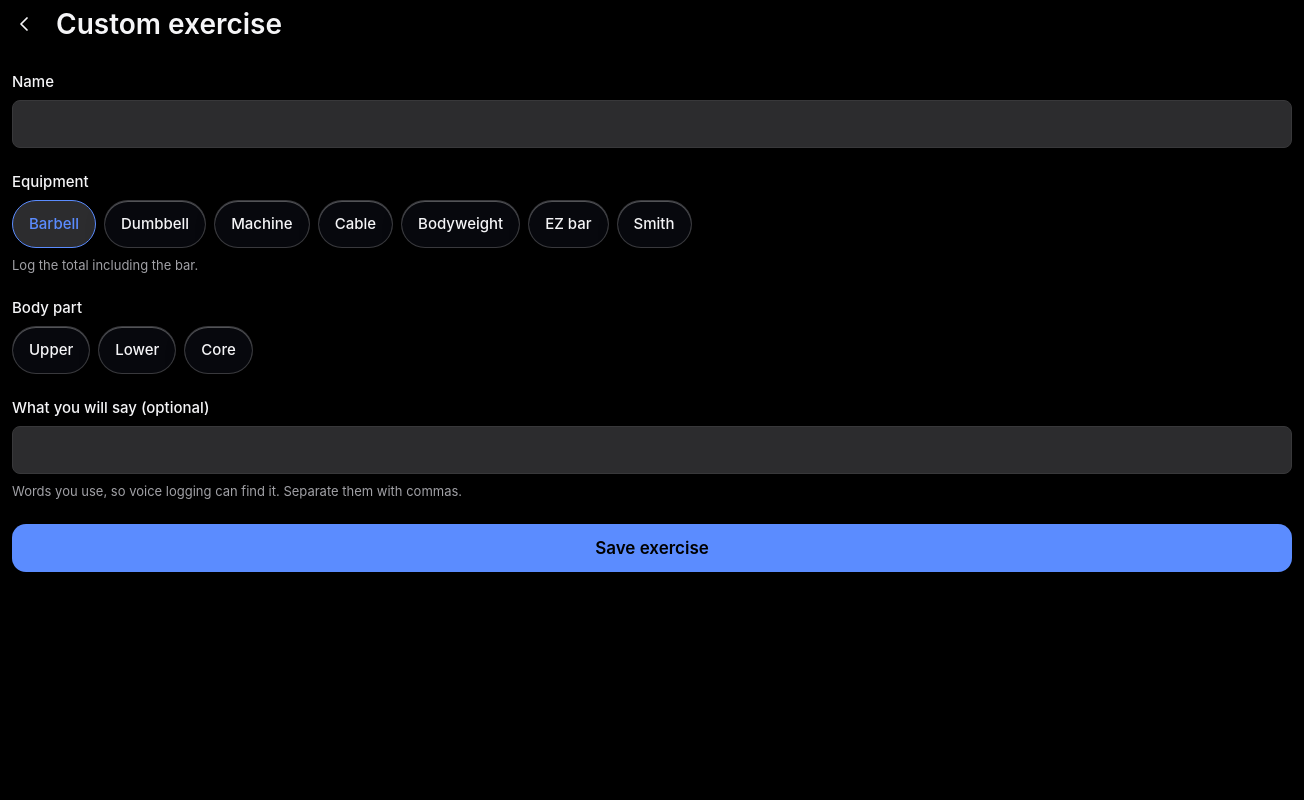
it: CustomExercisePage › explains what to log for Machine
Click the button "Machine". click: (262,224)
box: [214, 200, 310, 248]
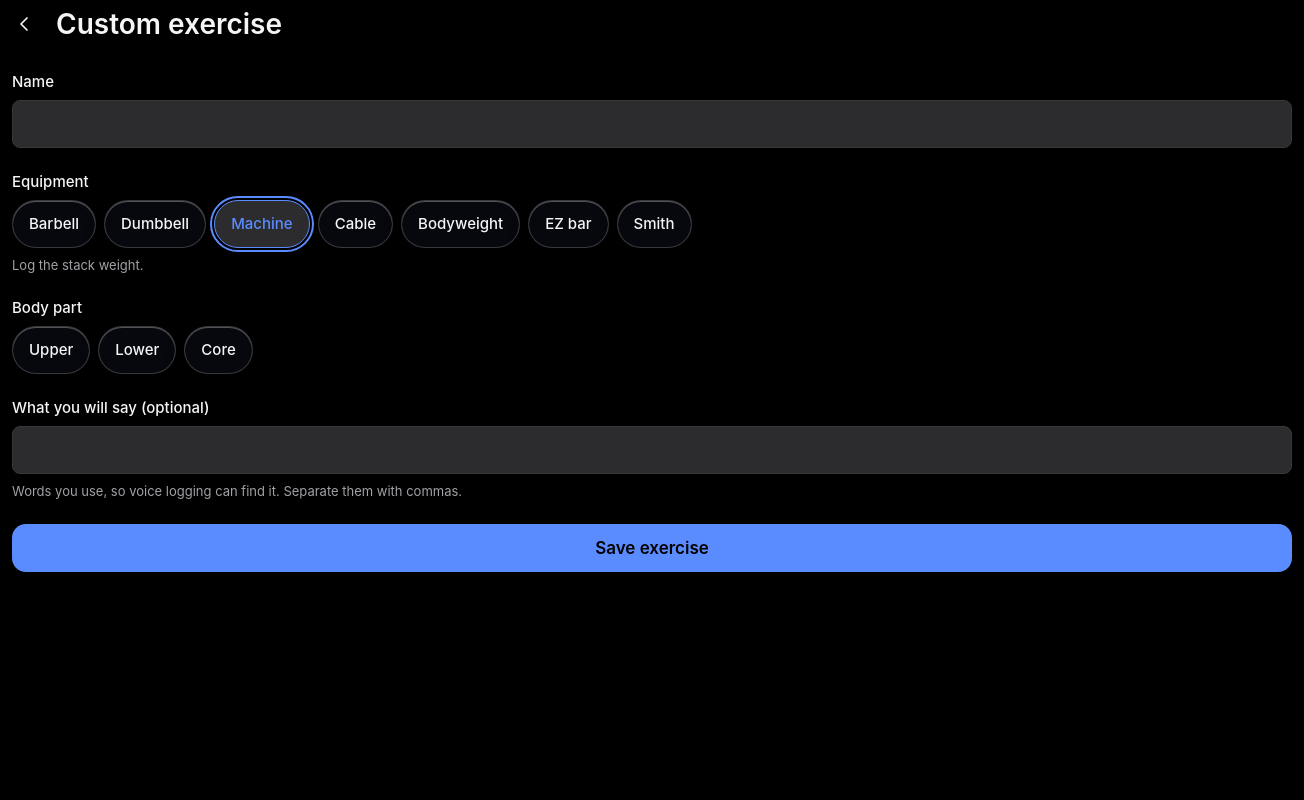
Now the text "Log the stack weight." is shown, box [12, 257, 143, 273]
